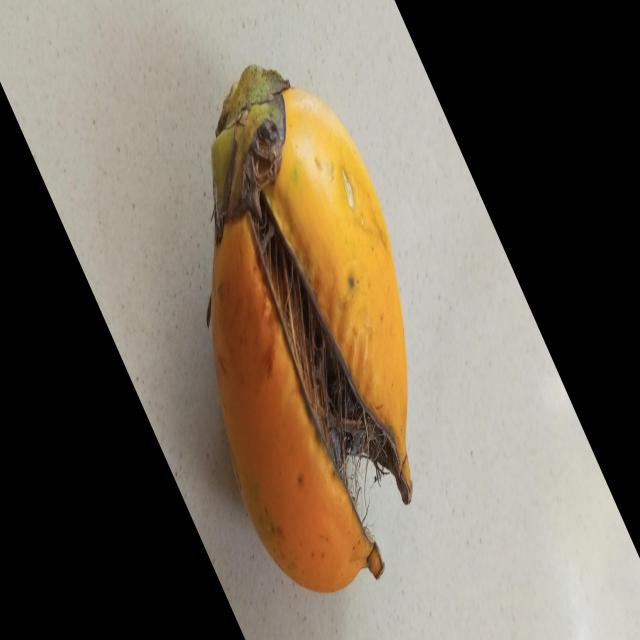damaged: (208, 66, 413, 597)
